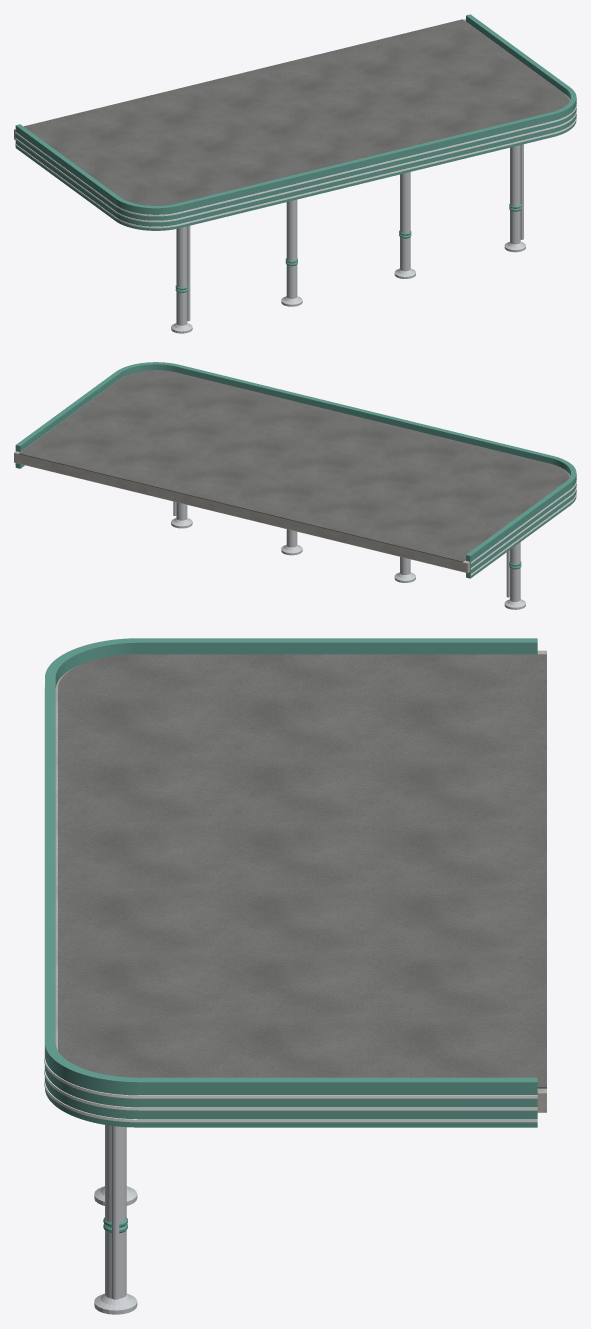
Rendered from canopy.glb.
3 renders of one model, top to bottom at view 1: azimuth 30°, elevation 25°; view 2: azimuth 150°, elevation 25°; view 3: azimuth 270°, elevation 25°, orthographic. The views are drawn at different scales.
Parts seen in each view (by area): view 1: canopy_membrane, canopy_trim_g, canopy_steel, canopy_paint_w; view 2: canopy_membrane, canopy_trim_g, canopy_concrete, canopy_steel, canopy_paint_w, canopy_ceil; view 3: canopy_membrane, canopy_trim_g, canopy_paint_w, canopy_steel, canopy_concrete.
Part boxes in pixels (x1=…): canopy_membrane: x1=23, y1=19, x2=569, y2=205; canopy_trim_g: x1=15, y1=14, x2=576, y2=292; canopy_steel: x1=171, y1=144, x2=525, y2=333; canopy_paint_w: x1=15, y1=102, x2=576, y2=228; canopy_membrane: x1=19, y1=370, x2=569, y2=562; canopy_trim_g: x1=15, y1=362, x2=576, y2=578; canopy_concrete: x1=14, y1=378, x2=570, y2=572; canopy_steel: x1=171, y1=501, x2=525, y2=609; canopy_paint_w: x1=15, y1=463, x2=576, y2=575; canopy_ceil: x1=14, y1=462, x2=469, y2=573; canopy_membrane: x1=58, y1=654, x2=546, y2=1088; canopy_trim_g: x1=45, y1=638, x2=537, y2=1233; canopy_paint_w: x1=44, y1=686, x2=537, y2=1122; canopy_steel: x1=94, y1=1125, x2=137, y2=1314; canopy_concrete: x1=55, y1=650, x2=546, y2=1112.
Size of the model in its own units: 13.66 by 4.05 by 6.53.
Materials: 7 (2 with a texture image).
